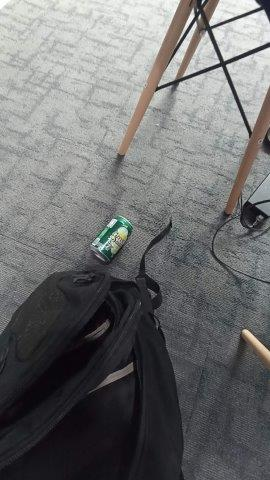kaleng: (90, 216, 134, 262)
